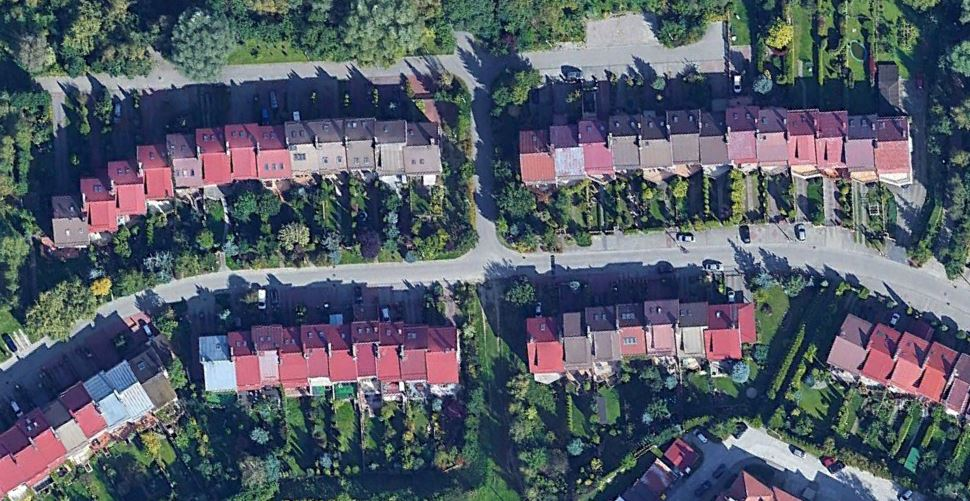terrace house: (48, 117, 446, 253), (515, 95, 922, 196), (1, 342, 181, 501), (196, 315, 469, 404), (521, 295, 764, 384), (823, 307, 969, 420)
